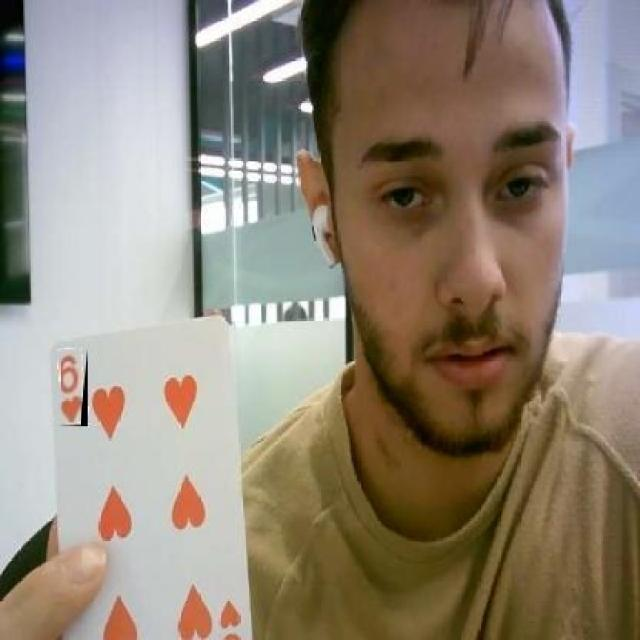6H: (60, 349, 88, 426)
